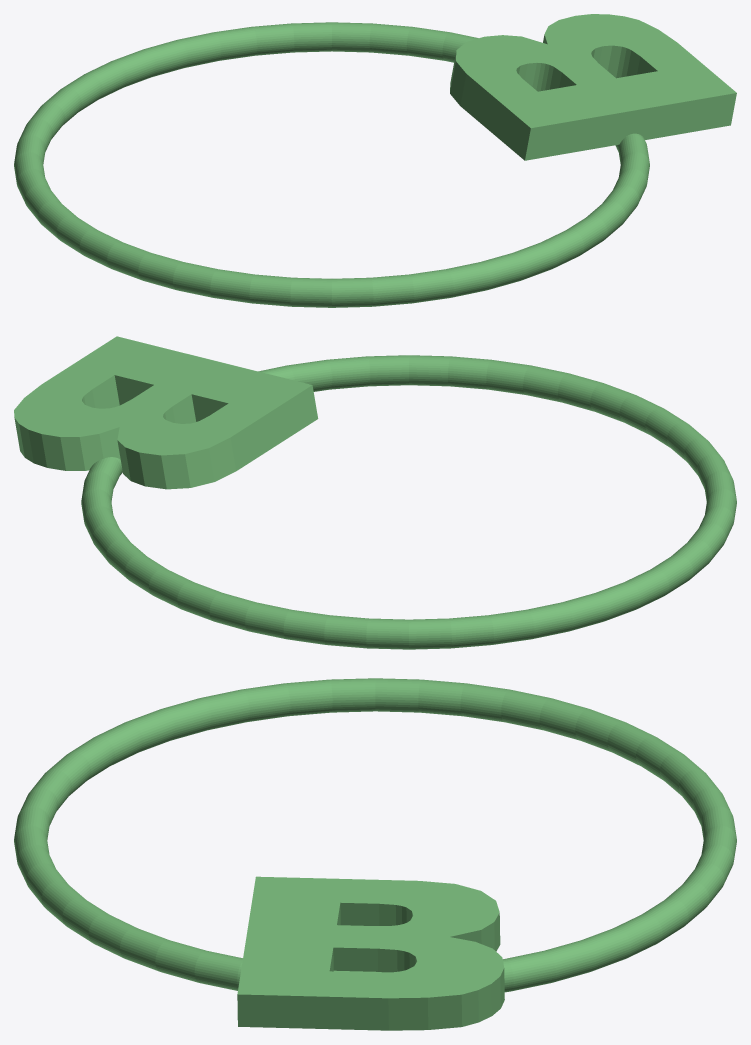
Rendered from anel_b.glb.
The picture shows the model from 3 angles, top to bottom: view 1: azimuth 30°, elevation 25°; view 2: azimuth 150°, elevation 25°; view 3: azimuth 270°, elevation 25°; orthographic projection. The views are drawn at different scales.
Parts seen in each view (by area): view 1: Mesh_Mesh_head_geo.001_lambert2SG.001; view 2: Mesh_Mesh_head_geo.001_lambert2SG.001; view 3: Mesh_Mesh_head_geo.001_lambert2SG.001.
Part boxes in pixels (<box>): Mesh_Mesh_head_geo.001_lambert2SG.001: <box>14,14,736,307</box>; Mesh_Mesh_head_geo.001_lambert2SG.001: <box>14,336,736,649</box>; Mesh_Mesh_head_geo.001_lambert2SG.001: <box>14,678,736,1030</box>.
Bounding box in the file's own units: 24.8 × 2 × 21.8.
